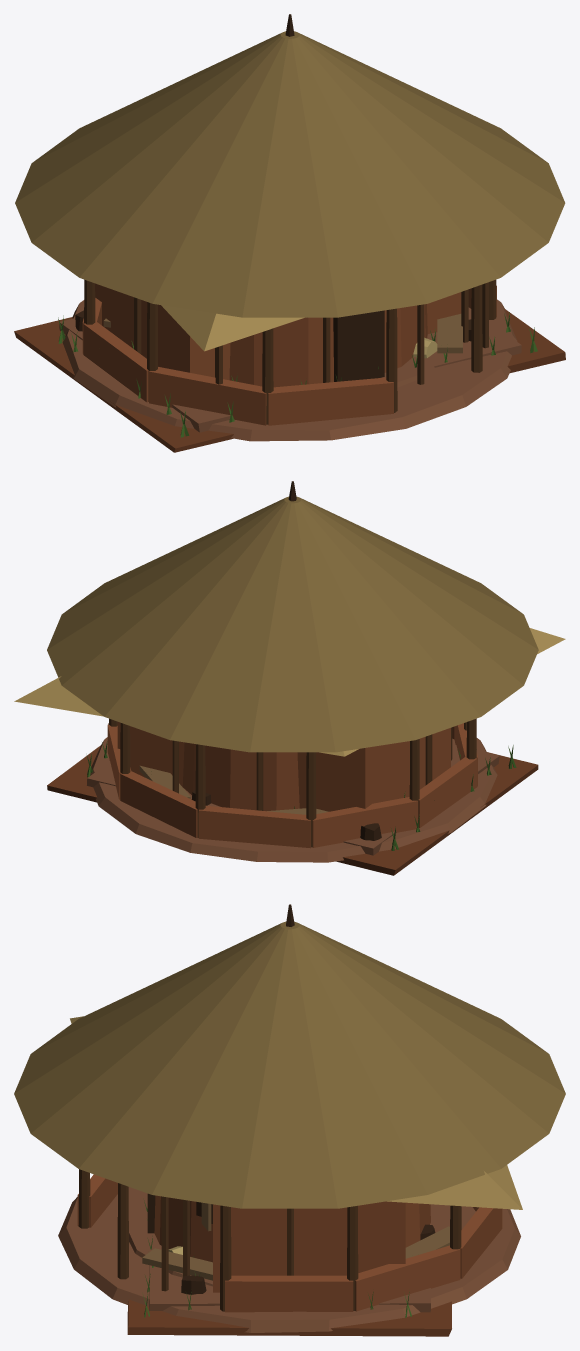
Rendered from gbelewala.glb.
3 renders of one model, top to bottom at view 1: azimuth 30°, elevation 25°; view 2: azimuth 150°, elevation 25°; view 3: azimuth 270°, elevation 25°, orthographic. The views are drawn at different scales.
Visible parts, largest first — view 1: palaver_hut, house_round, house_long, rice_farm; view 2: palaver_hut, house_long, house_round, rice_farm; view 3: palaver_hut, house_long, house_round, rice_farm.
Part boxes in pixels (bbox=[...]): palaver_hut: bbox=[15, 14, 565, 441]; house_round: bbox=[134, 289, 468, 387]; house_long: bbox=[59, 282, 521, 432]; rice_farm: bbox=[14, 309, 565, 452]; palaver_hut: bbox=[47, 481, 538, 862]; house_long: bbox=[14, 628, 565, 855]; house_round: bbox=[172, 727, 452, 811]; rice_farm: bbox=[47, 741, 538, 875]; palaver_hut: bbox=[14, 904, 565, 1332]; house_long: bbox=[70, 1016, 522, 1312]; house_round: bbox=[128, 1191, 461, 1286]; rice_farm: bbox=[127, 1200, 451, 1336].
Size of the model in its own units: 8.47 by 5.81 by 8.6.
